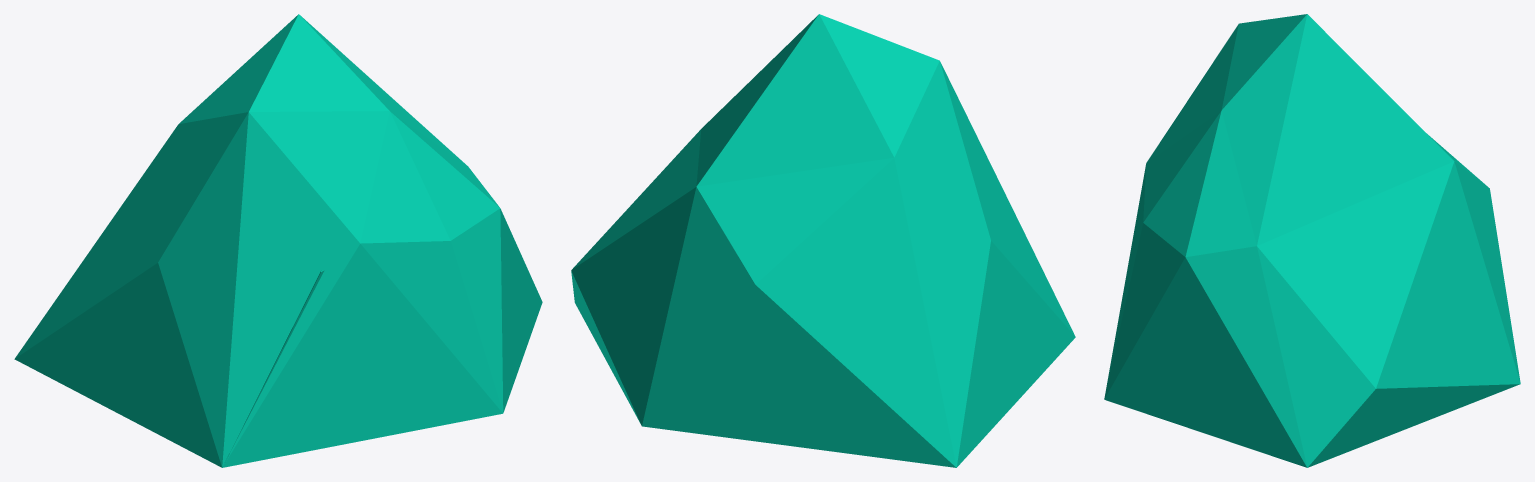
File: hyoukai1_Motion.fbx
3 views of the same model, side by side, from view 1: azimuth 30°, elevation 25°; view 2: azimuth 150°, elevation 25°; view 3: azimuth 270°, elevation 25° (orthographic). The views are drawn at different scales.
Parts seen in each view (by area): view 1: polySurface12, polySurface10, polySurface7, polySurface14, polySurface16, polySurface2, polySurface6, polySurface17, polySurface4; view 2: polySurface21, polySurface2, polySurface7, polySurface19, polySurface6, polySurface12, polySurface4; view 3: polySurface19, polySurface16, polySurface2, polySurface4, polySurface14, polySurface17, polySurface21.
Boxes of the visible parts, left/top/right/bottom form: polySurface12: left=158, top=112, right=359, bottom=467; polySurface10: left=222, top=243, right=502, bottom=467; polySurface7: left=14, top=125, right=221, bottom=467; polySurface14: left=249, top=111, right=499, bottom=243; polySurface16: left=361, top=208, right=542, bottom=413; polySurface2: left=179, top=14, right=399, bottom=123; polySurface6: left=158, top=112, right=248, bottom=261; polySurface17: left=391, top=112, right=499, bottom=207; polySurface4: left=390, top=105, right=466, bottom=165; polySurface21: left=642, top=158, right=956, bottom=467; polySurface2: left=696, top=14, right=939, bottom=186; polySurface7: left=894, top=158, right=1075, bottom=467; polySurface19: left=571, top=129, right=701, bottom=425; polySurface6: left=894, top=61, right=990, bottom=239; polySurface12: left=940, top=62, right=1075, bottom=336; polySurface4: left=696, top=83, right=747, bottom=185; polySurface19: left=1257, top=161, right=1520, bottom=467; polySurface16: left=1104, top=164, right=1307, bottom=467; polySurface2: left=1221, top=14, right=1453, bottom=161; polySurface4: left=1222, top=111, right=1453, bottom=245; polySurface14: left=1143, top=24, right=1238, bottom=256; polySurface17: left=1185, top=111, right=1256, bottom=256; polySurface21: left=1427, top=134, right=1520, bottom=382.
Size of the model in its own units: 22.83 by 16.68 by 18.62.
